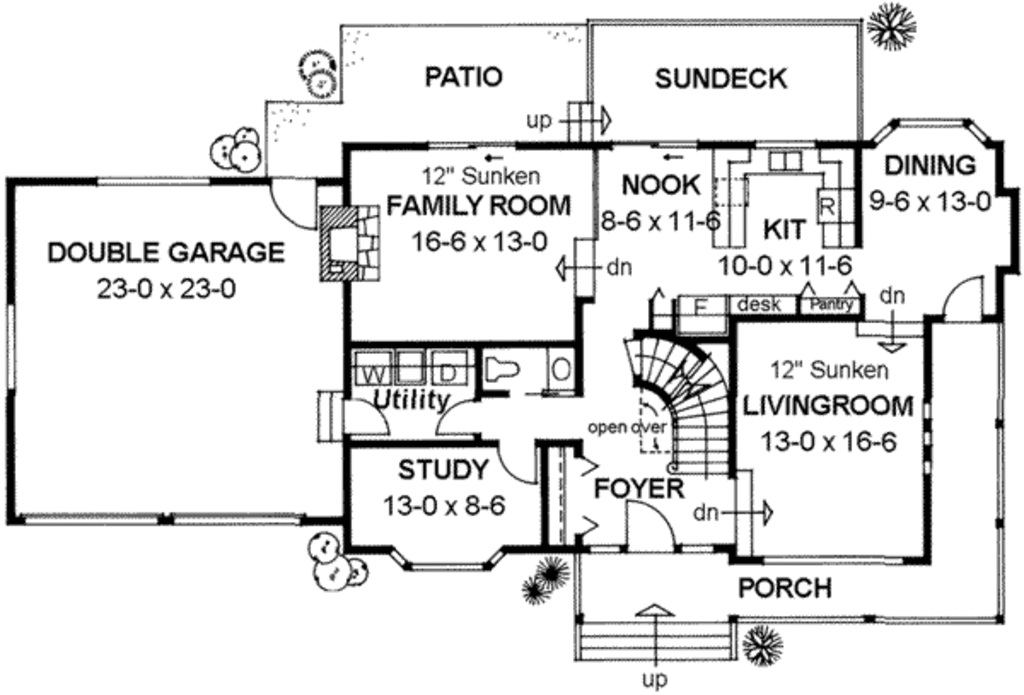door: (262, 174, 323, 235), (620, 494, 676, 555), (491, 438, 545, 486), (939, 274, 984, 327), (339, 396, 392, 441), (431, 397, 478, 441)
large_sink: (482, 352, 523, 390)
small_sink: (539, 346, 575, 391)
stairs: (615, 339, 729, 477), (575, 605, 737, 669)
window: (387, 541, 508, 578), (873, 116, 1000, 146), (95, 172, 213, 193), (20, 513, 160, 530), (173, 510, 309, 523), (751, 138, 822, 154)
